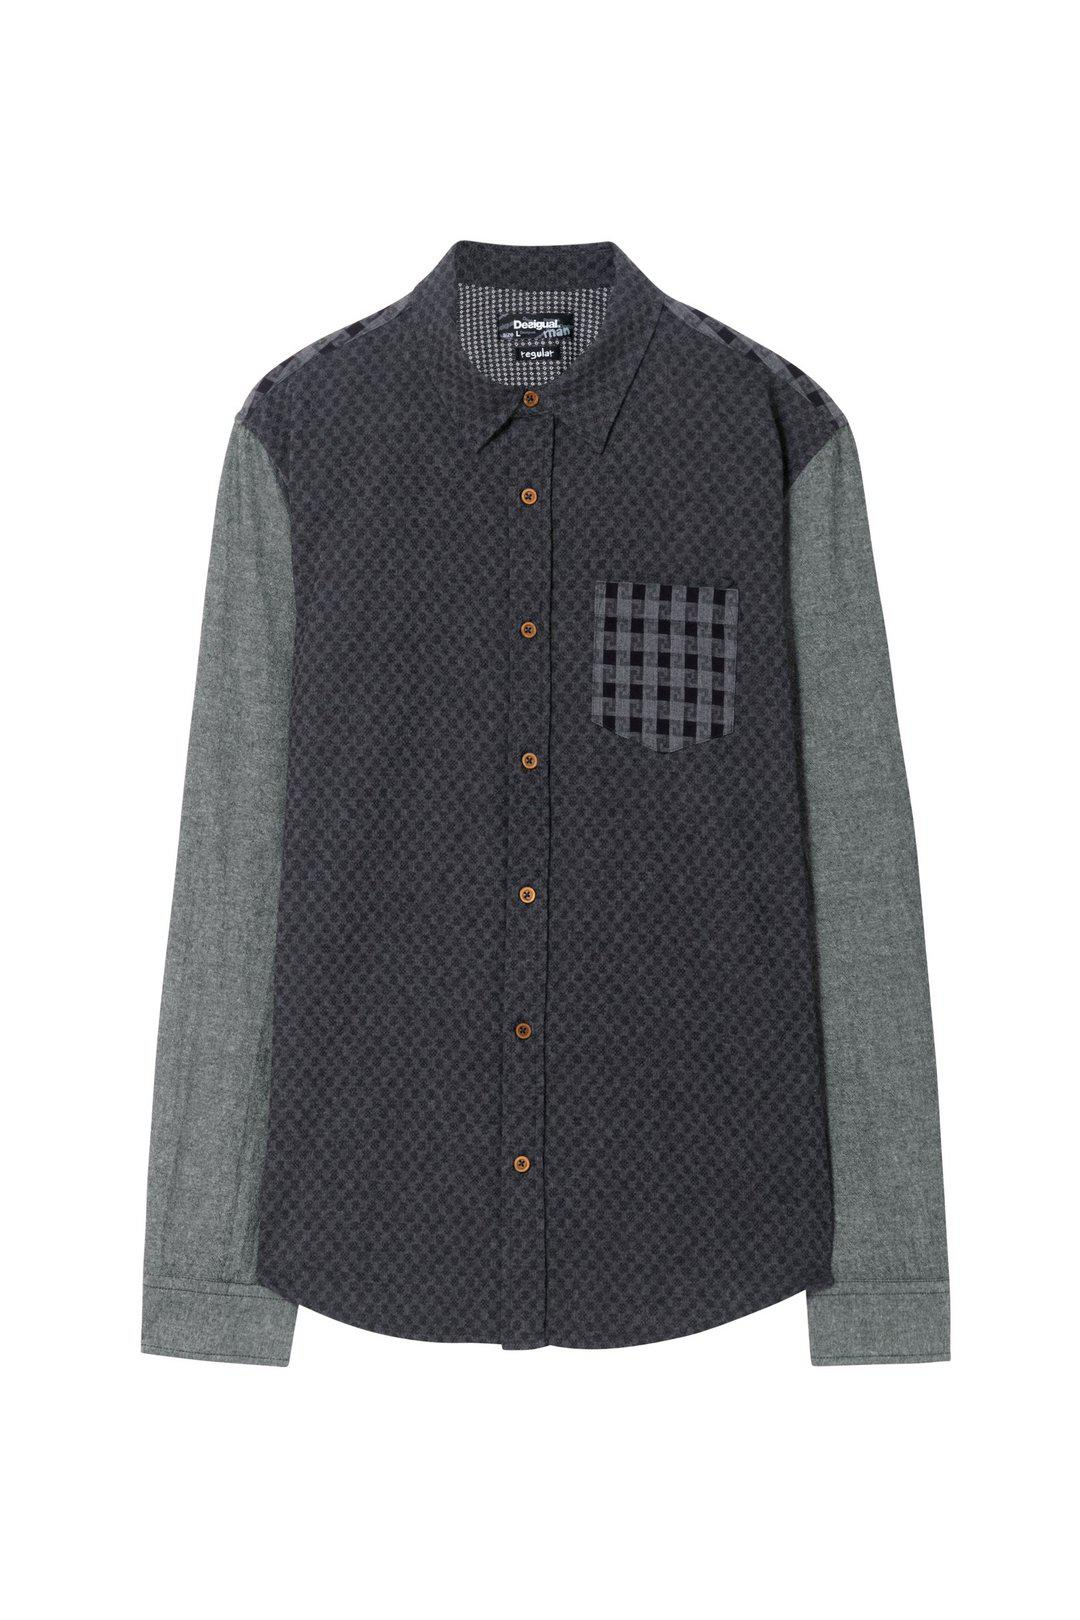teeshirt: (151, 227, 986, 1427)
